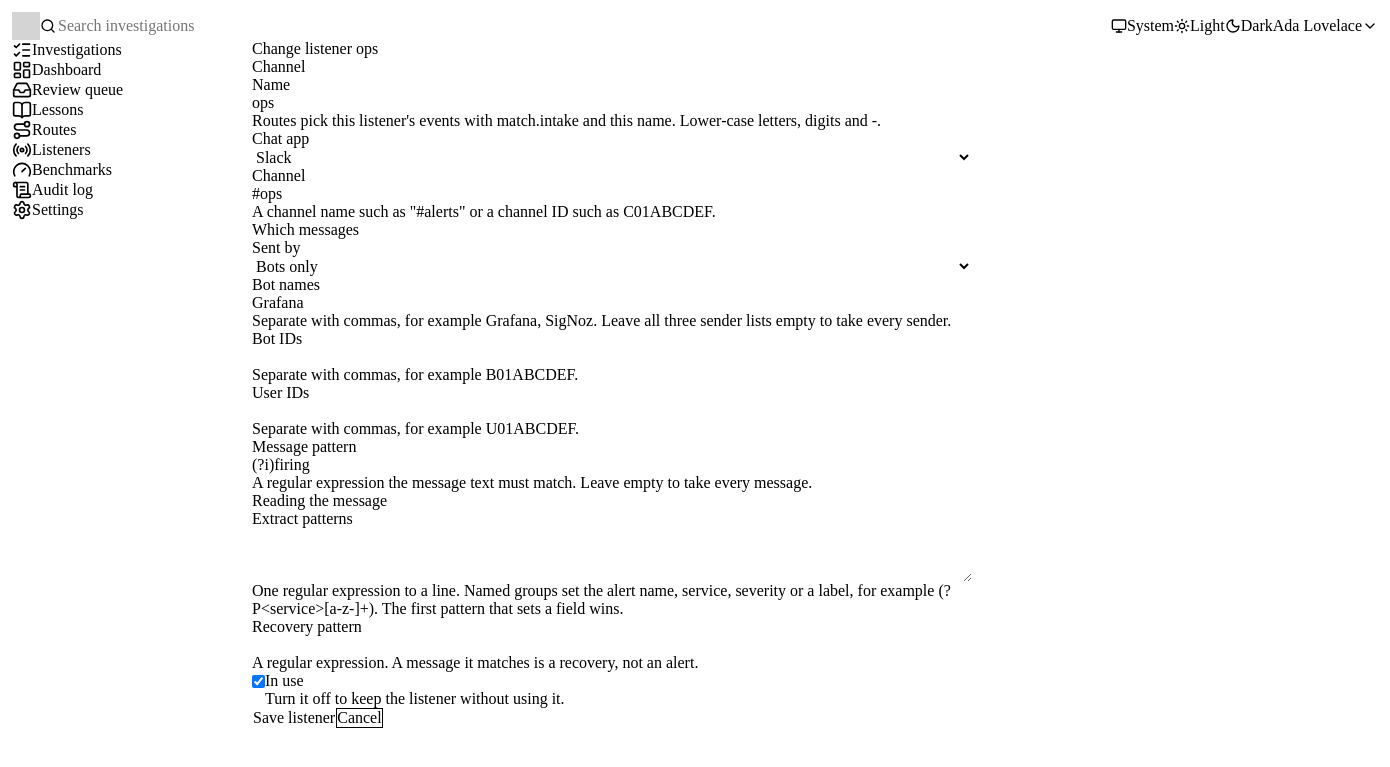
Test case: the listener form › warns that someone changed the listener, and loads the new version
Click the button "Save listener": (294, 718) [252, 708, 336, 728]
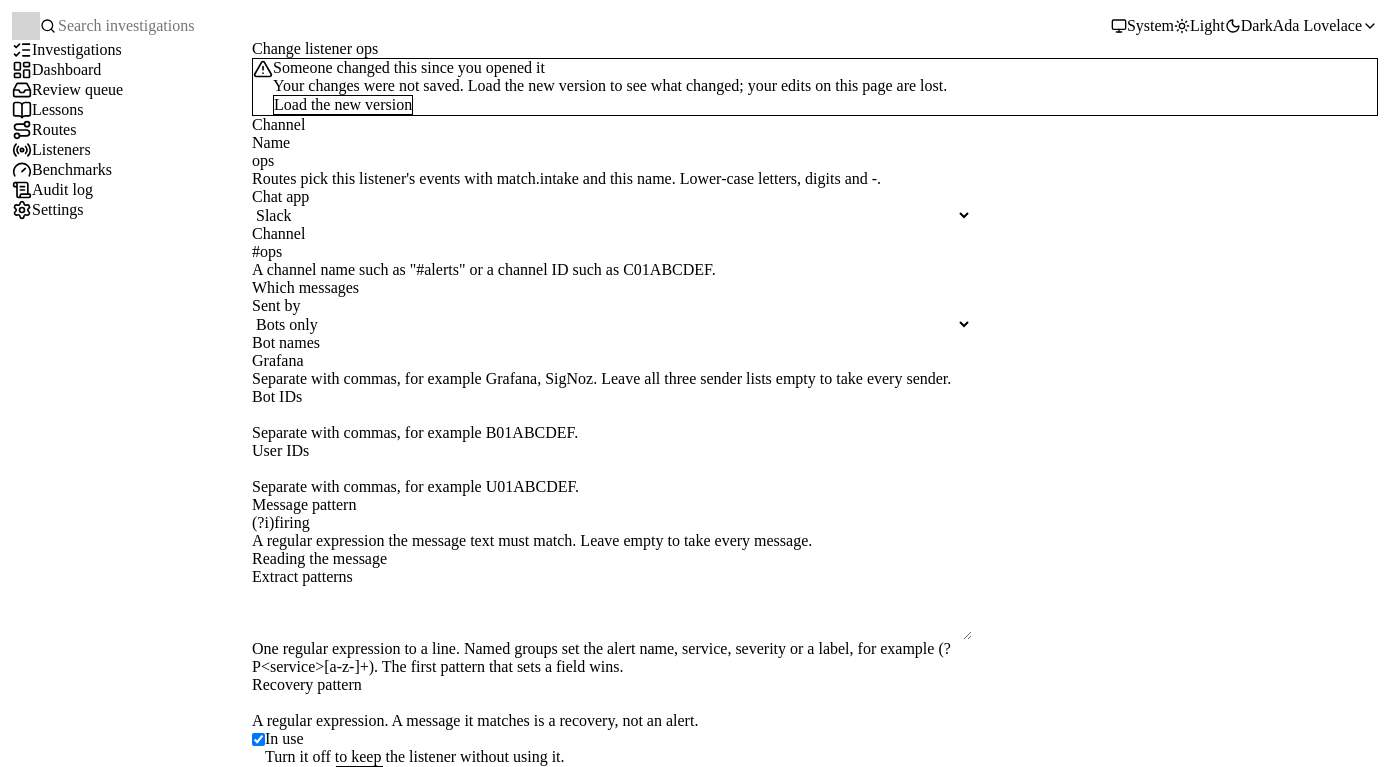
Check: the heading "Someone changed this since you opened it" is shown, box [273, 59, 545, 77]
Click the button "Load the new version": (343, 105) [273, 95, 413, 115]
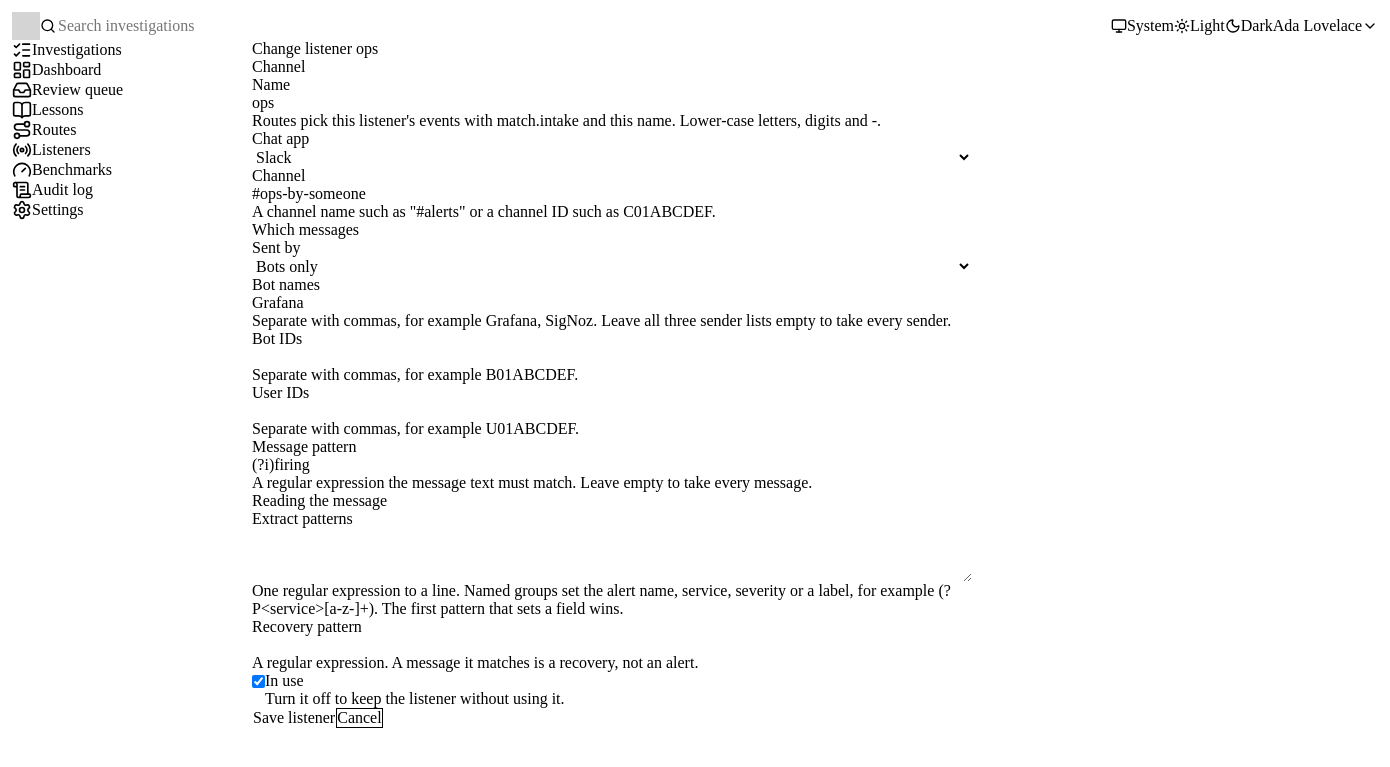
Check: the field labelled "Channel" holds "#ops-by-someone", box [252, 185, 972, 203]
Check: the message is gone
